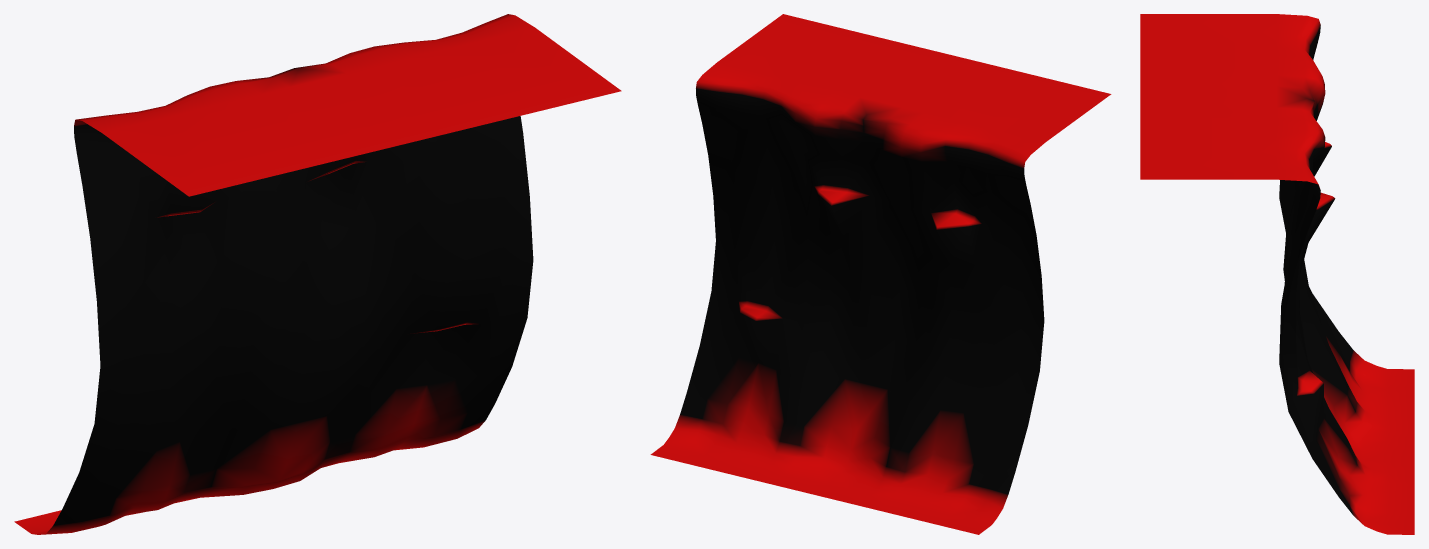
Rendered from GroundCliff01D 2M Background.fbx.
The picture shows the model from 3 angles, left to right: view 1: azimuth 30°, elevation 25°; view 2: azimuth 150°, elevation 25°; view 3: azimuth 270°, elevation 25°; orthographic projection. The views are drawn at different scales.
Parts seen in each view (by area): view 1: GroundCliff01D 2M Background; view 2: GroundCliff01D 2M Background; view 3: GroundCliff01D 2M Background.
Part boxes in pixels (x1,y1,x2,y2): GroundCliff01D 2M Background: [14, 14, 621, 534]; GroundCliff01D 2M Background: [650, 14, 1111, 534]; GroundCliff01D 2M Background: [1140, 14, 1414, 534].
Bounding box in the file's own units: 2 × 2 × 1.4.
